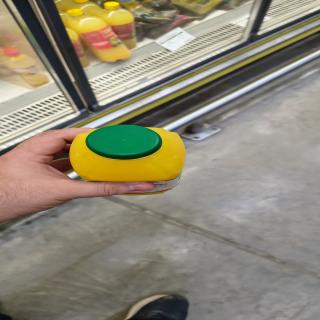Juice: (59, 122, 197, 182)
